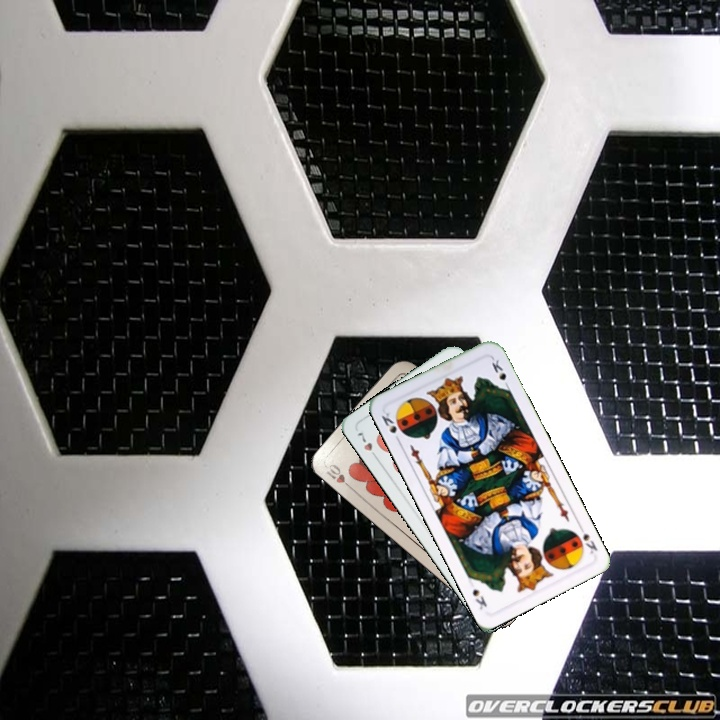H10: (321, 459, 356, 493)
H7: (353, 427, 381, 462)
SK: (377, 408, 403, 446), (574, 521, 600, 556)
